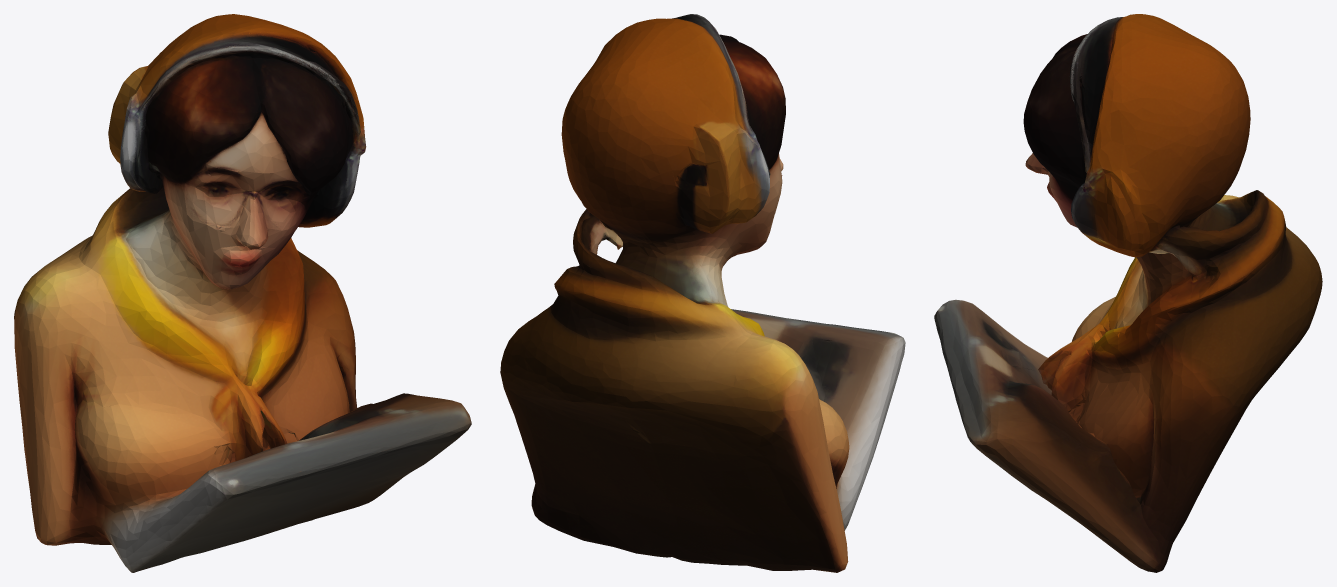
The model's file is developer-female.glb.
3 renders of one model, left to right at view 1: azimuth 30°, elevation 25°; view 2: azimuth 150°, elevation 25°; view 3: azimuth 270°, elevation 25°, orthographic. The views are drawn at different scales.
Visible parts, largest first — view 1: world; view 2: world; view 3: world.
Part boxes in pixels (x1,y1,x2,y2): world: (14, 14, 471, 572); world: (500, 14, 905, 572); world: (934, 14, 1322, 572).
Bounding box in the file's own units: 0.5155 × 0.7714 × 0.5457.
Materials: 1 (1 with a texture image).
